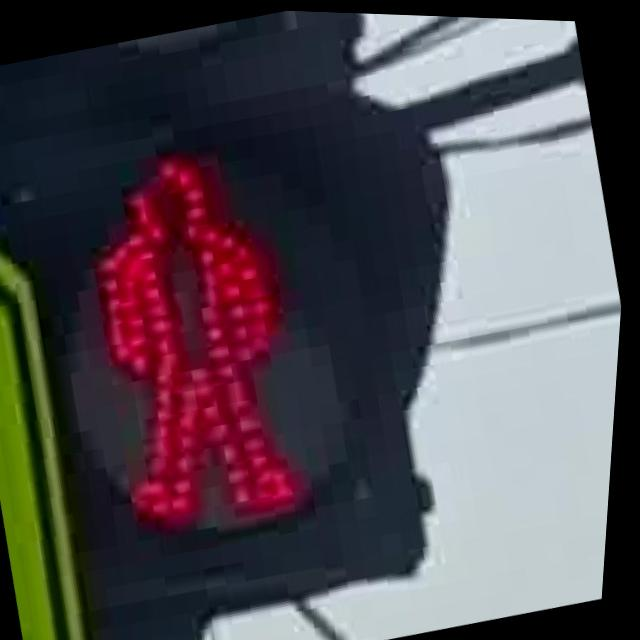red_light: (43, 100, 375, 554)
